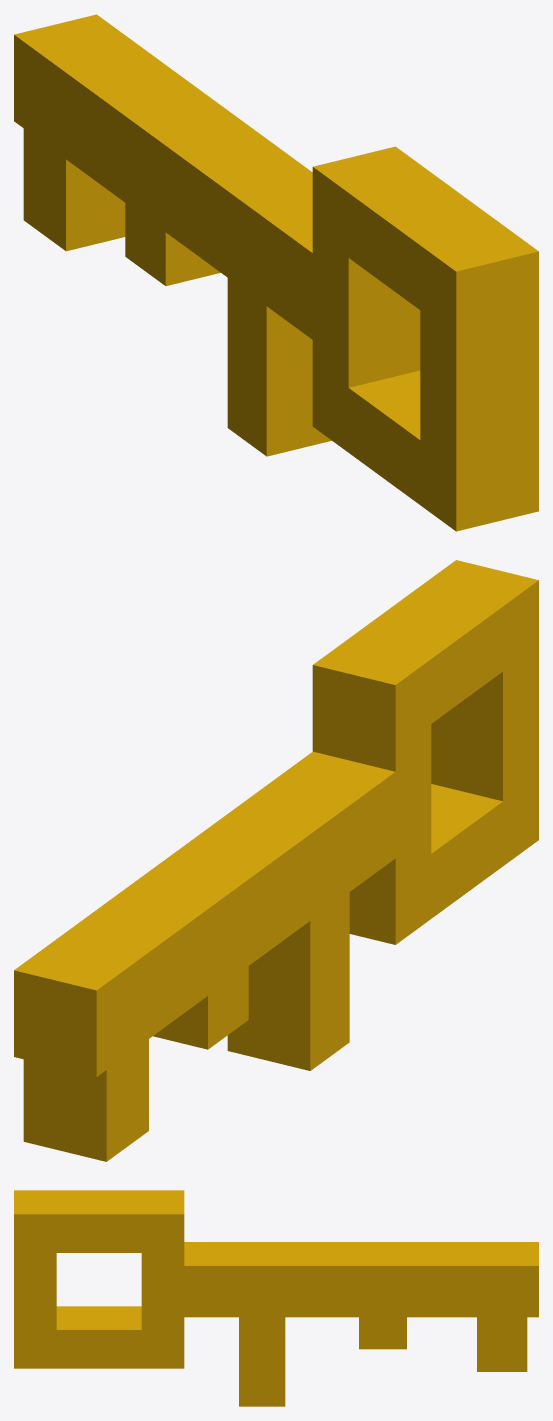
File: key.fbx
The picture shows the model from 3 angles, top to bottom: view 1: azimuth 30°, elevation 25°; view 2: azimuth 150°, elevation 25°; view 3: azimuth 270°, elevation 25°; orthographic projection. The views are drawn at different scales.
Parts seen in each view (by area): view 1: 立方体.001; view 2: 立方体.001; view 3: 立方体.001.
Boxes of the visible parts, bbox=[...] form: 立方体.001: bbox=[14, 14, 538, 531]; 立方体.001: bbox=[14, 560, 538, 1161]; 立方体.001: bbox=[14, 1190, 538, 1406].
Bounding box in the file's own units: 200 × 747 × 1850.
